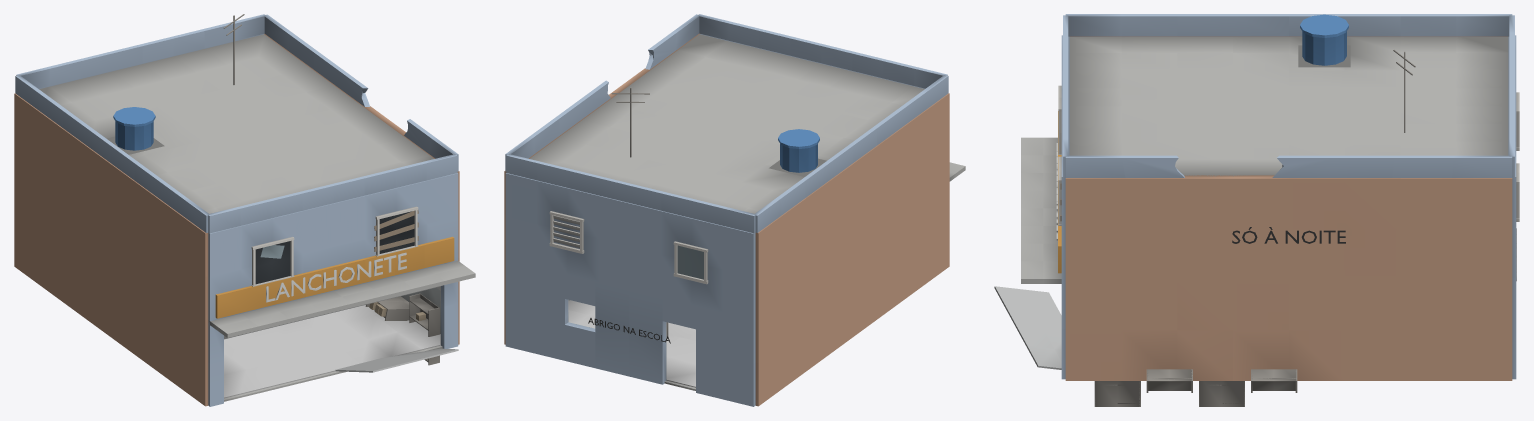
File: sobrado_8.glb
3 renders of one model, left to right at view 1: azimuth 30°, elevation 25°; view 2: azimuth 150°, elevation 25°; view 3: azimuth 270°, elevation 25°, orthographic. The views are drawn at different scales.
Visible parts, largest first — view 1: longe, ext, dentro, detalhe; view 2: ext, longe, detalhe, dentro; view 3: ext, longe, detalhe, dentro.
Part boxes in pixels (bbox=[...]): longe: bbox=[15, 14, 475, 372]; ext: bbox=[14, 33, 459, 406]; dentro: bbox=[224, 286, 442, 401]; detalhe: bbox=[107, 14, 418, 286]; ext: bbox=[504, 33, 949, 406]; longe: bbox=[505, 14, 965, 233]; detalhe: bbox=[549, 87, 826, 343]; dentro: bbox=[568, 299, 695, 390]; ext: bbox=[1061, 35, 1516, 380]; longe: bbox=[994, 14, 1514, 369]; detalhe: bbox=[1058, 14, 1519, 280]; dentro: bbox=[1094, 369, 1297, 406].
Size of what is drawn, in the model's own units: 9.73 by 9.29 by 14.12.
